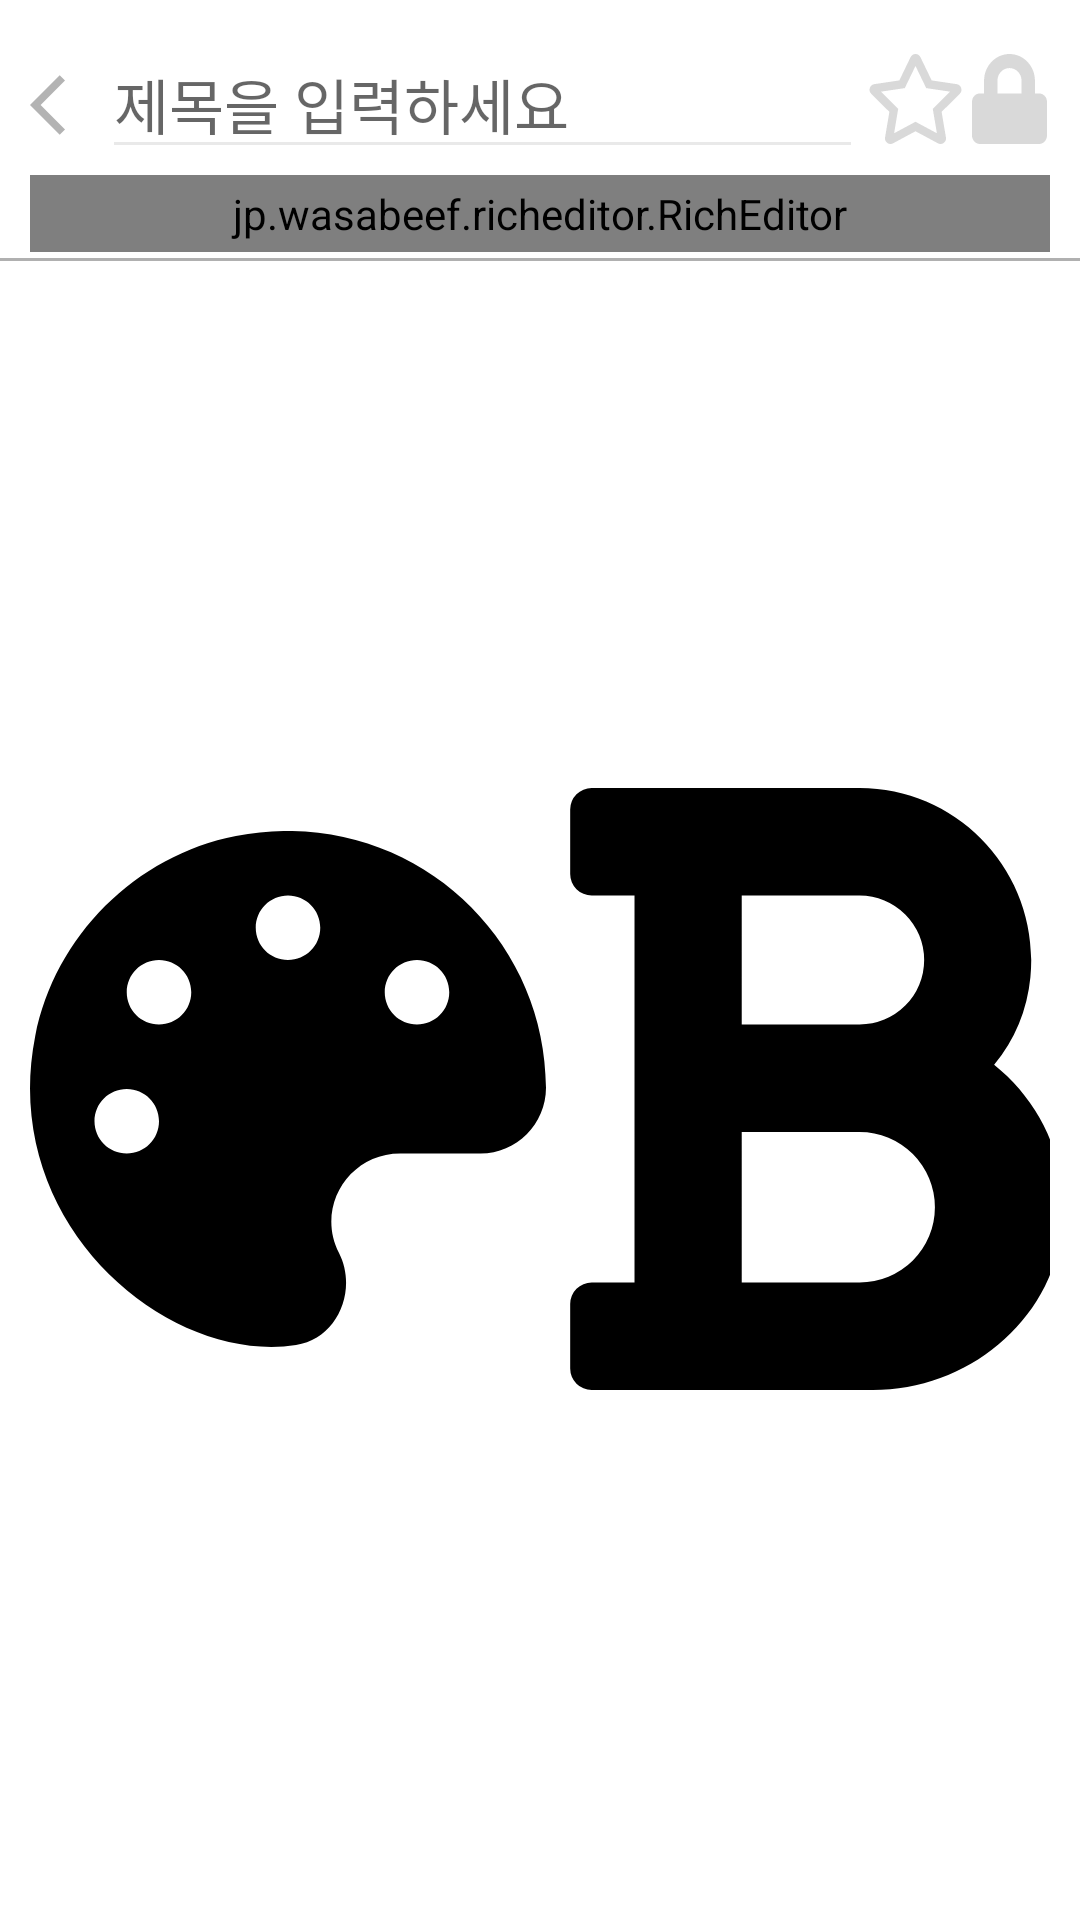

Icons on this 1080*1920 Android screen, each with its box as (x1, y1, x2, y2):
write activity lock: (972, 54, 1047, 144)
write activity star: (870, 54, 961, 144)
